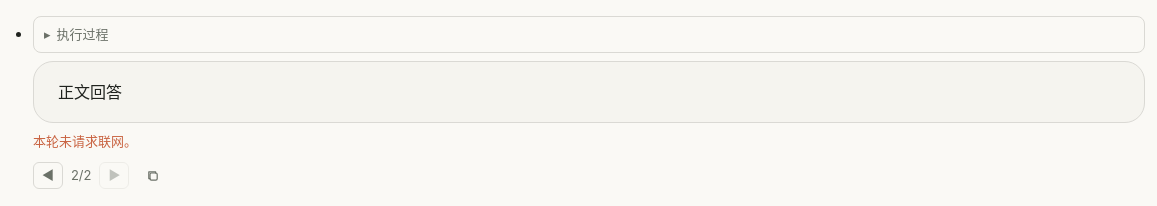
Test: 运行时执行过程 › 回答历史版本中的旧 reasoning 也不会重新出现
Step 1. Click the button named "上一个版本" → point(48, 176), box [33,162,63,189]
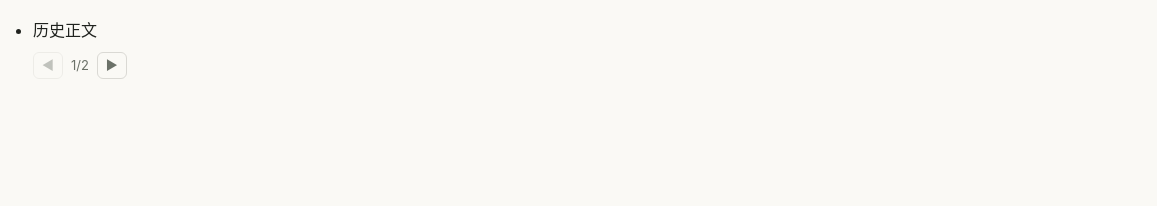
Expected: the text "历史正文" is shown, [33,20,97,40]
